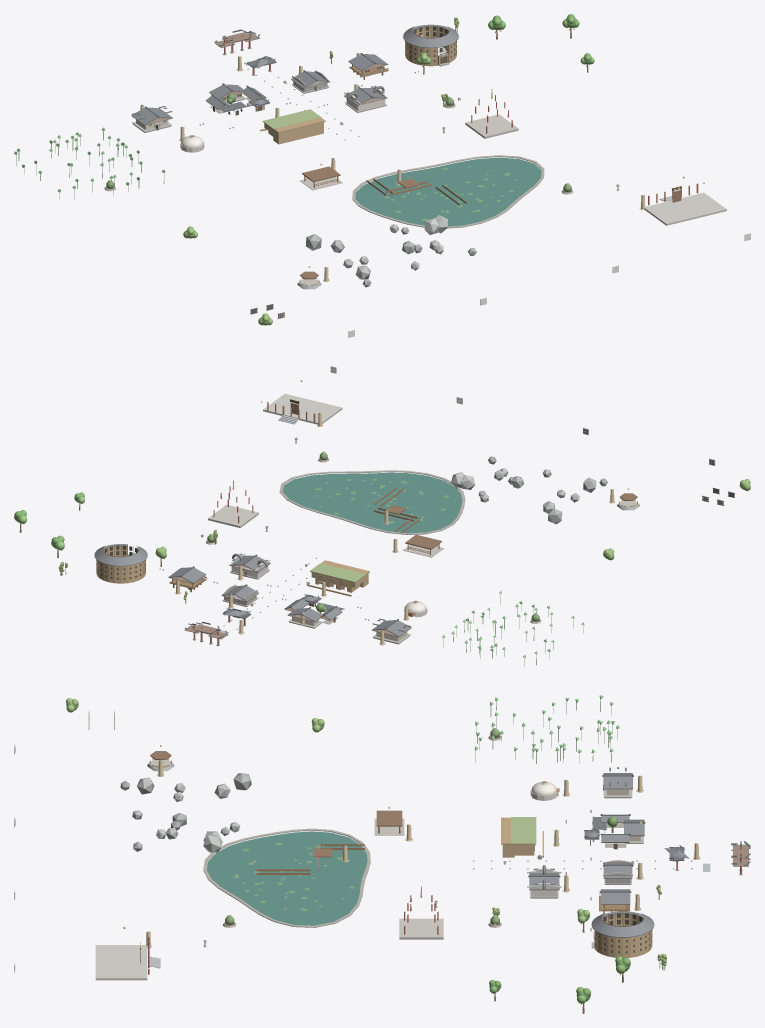
File: tile_1500_0.glb
3 renders of one model, top to bottom at view 1: azimuth 30°, elevation 25°; view 2: azimuth 150°, elevation 25°; view 3: azimuth 270°, elevation 25°, orthographic. The views are drawn at different scales.
Parts seen in each view (by area): view 1: tile; view 2: tile; view 3: tile.
Part boxes in pixels (left/top/right/bottom): tile: left=14, top=14, right=750, bottom=337; tile: left=14, top=366, right=750, bottom=666; tile: left=14, top=695, right=750, bottom=1013.
Bounding box in the file's own units: 296 × 20.78 × 300.
